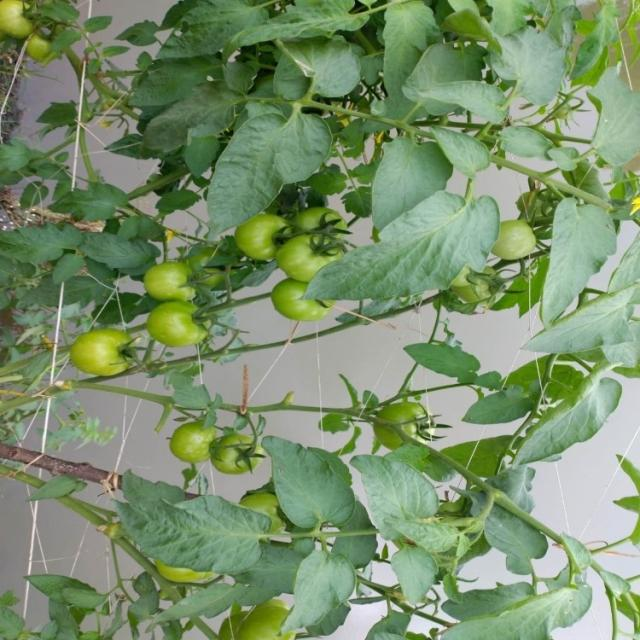tomato: (70, 319, 142, 379), (145, 300, 227, 352), (160, 413, 223, 476), (223, 594, 300, 640), (375, 396, 443, 445), (271, 271, 330, 323), (151, 254, 211, 305), (213, 425, 263, 486), (278, 232, 345, 277), (226, 210, 282, 261), (464, 261, 512, 318), (489, 217, 542, 266), (242, 476, 290, 528), (293, 203, 350, 238), (1, 1, 36, 41), (25, 27, 59, 63)
